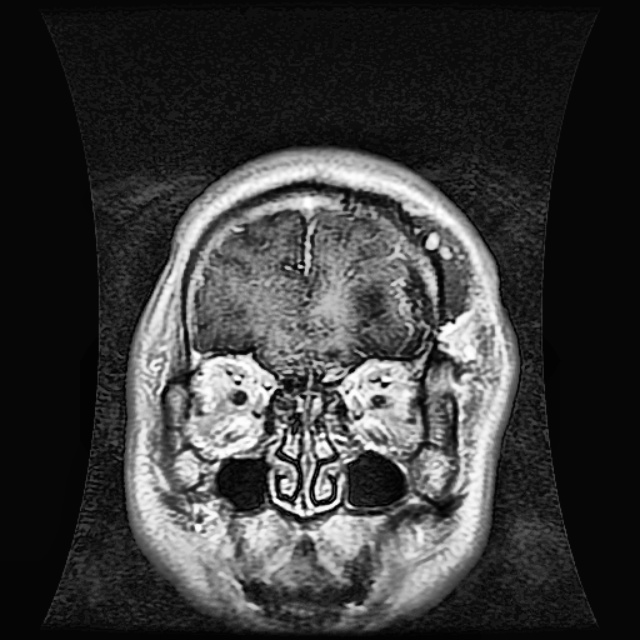Glioma: (394, 242, 442, 354)
